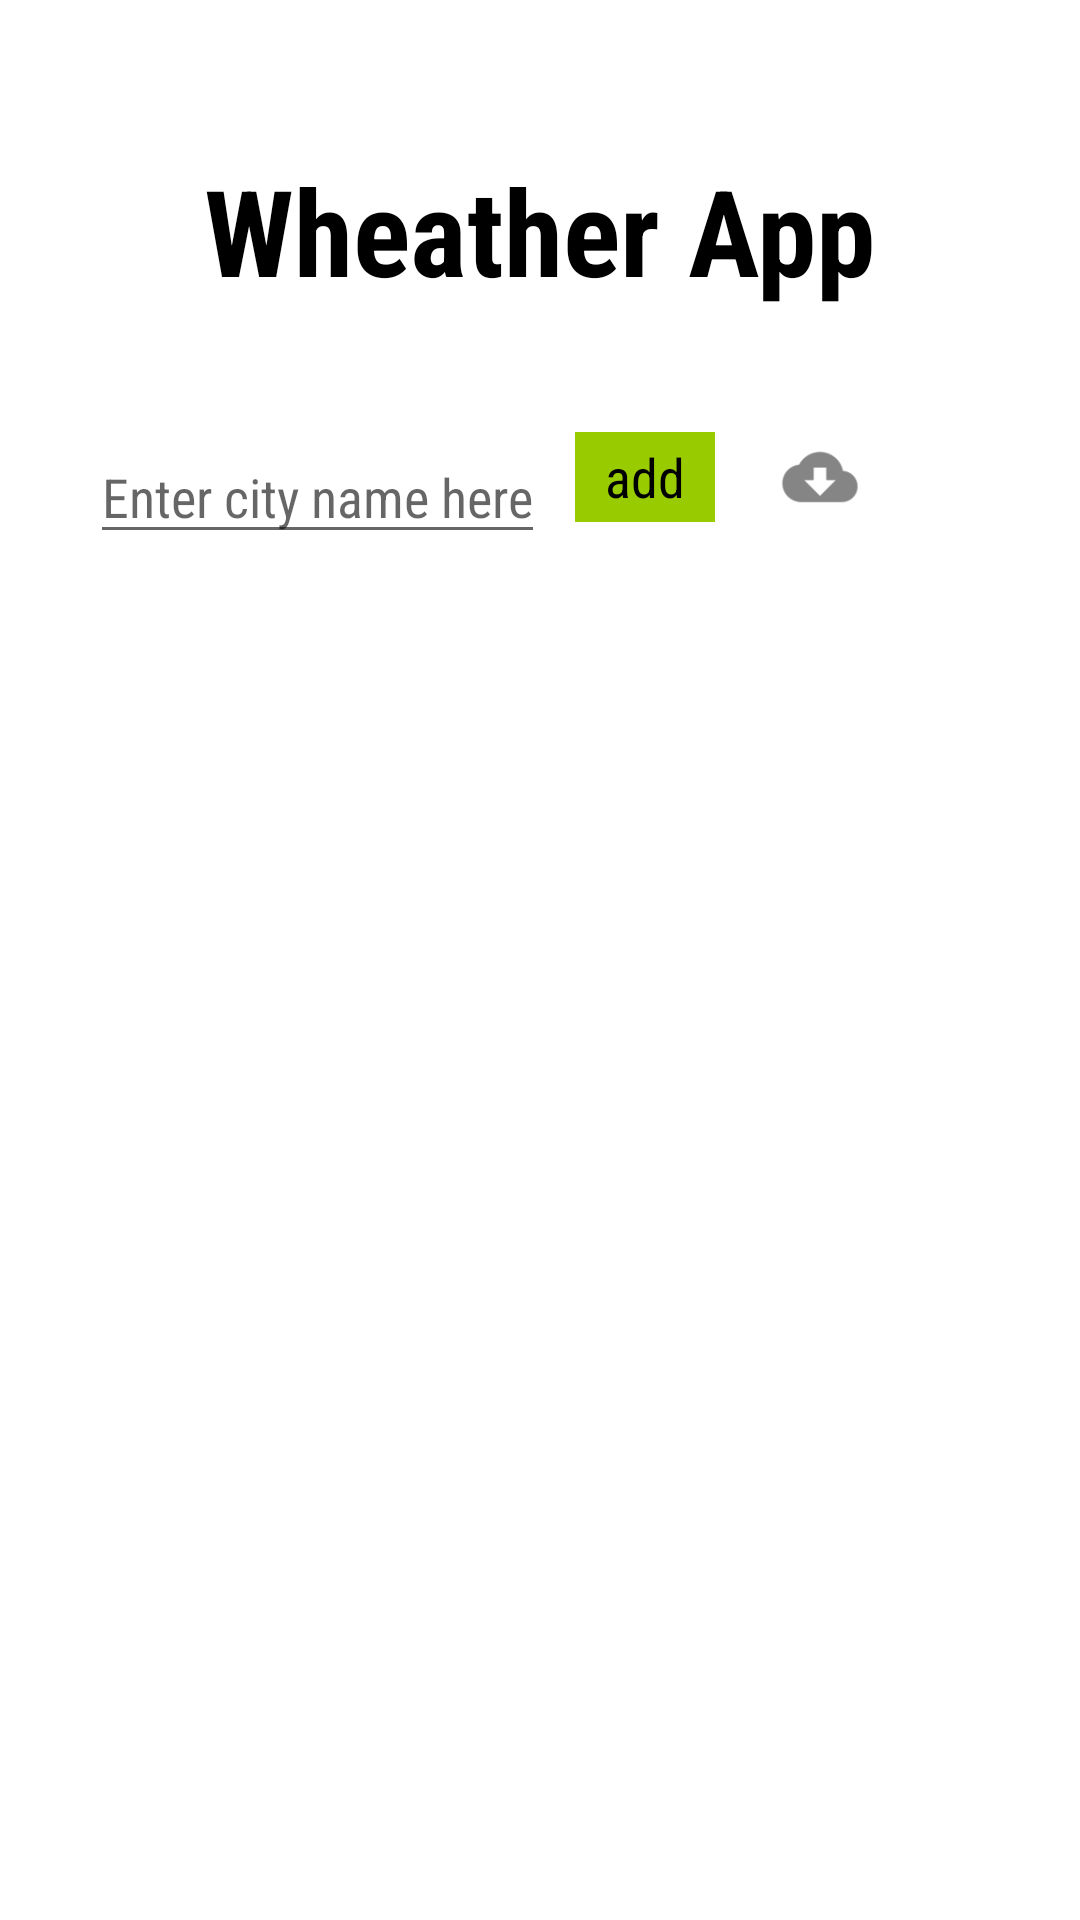

Icons on this 1080px x 1920px Android screen, each with its box as (x1, y1, x2, y2):
update: (782, 451, 858, 503)
